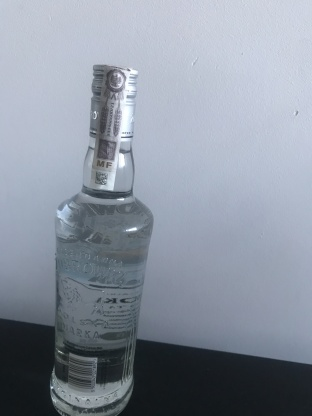nakretka: (87, 60, 139, 145)
